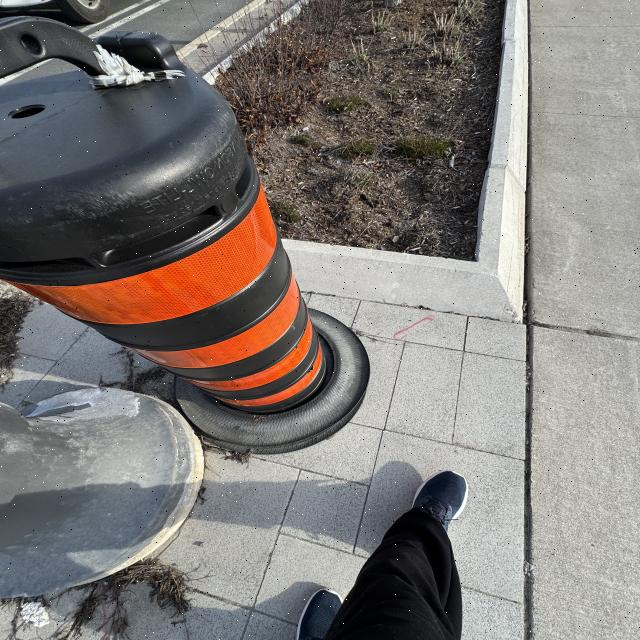Teraffic Barrel: (0, 18, 369, 452)
